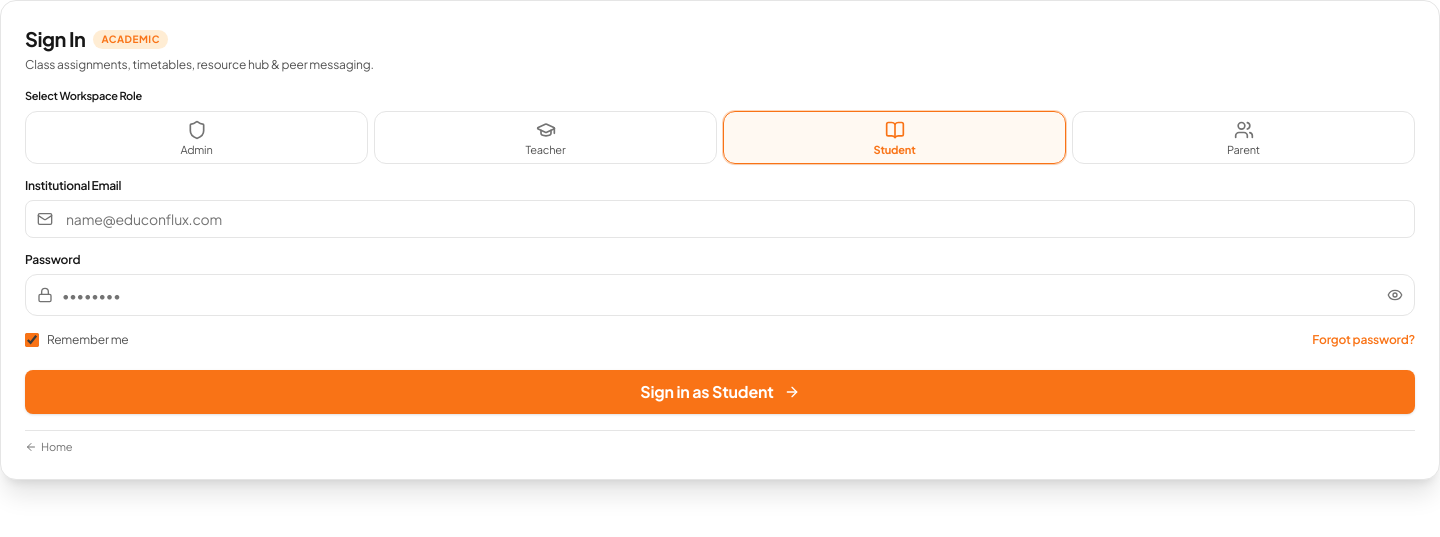
Test: LoginForm Component › displays validation error when entering short password
Type "test@example.com" into the field with placeholder "name@educonflux.com" at (720, 218), box [25,200,1415,238]
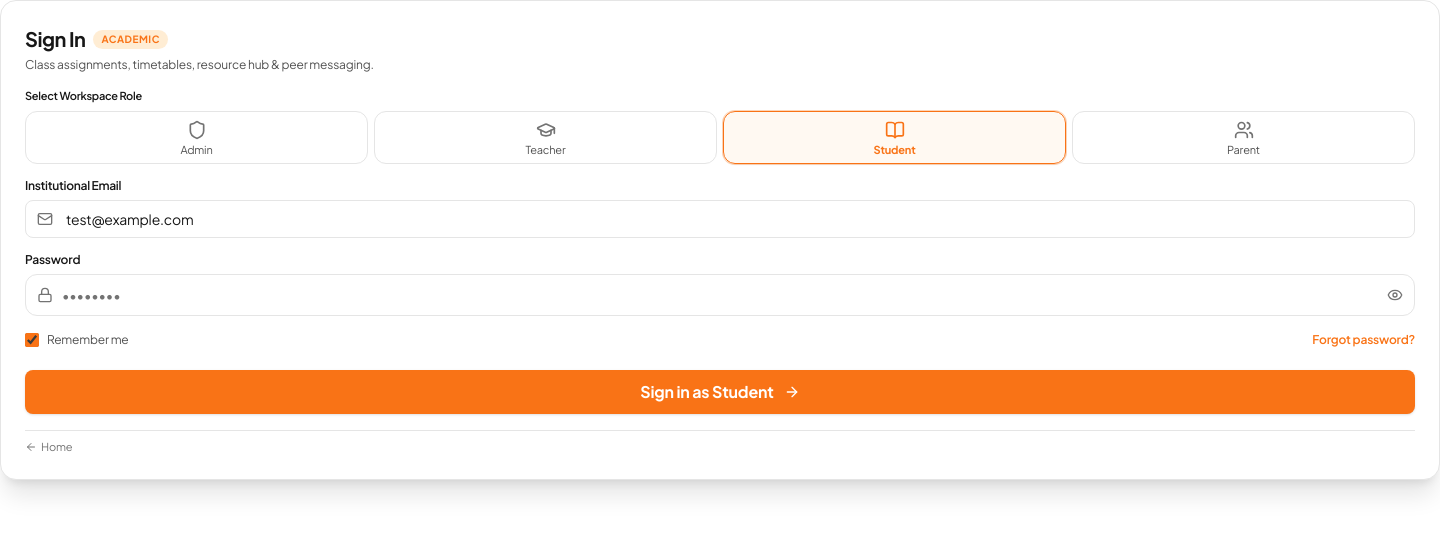
Type "123" into the password field with placeholder "••••••••" at (720, 294), box [25,274,1415,316]
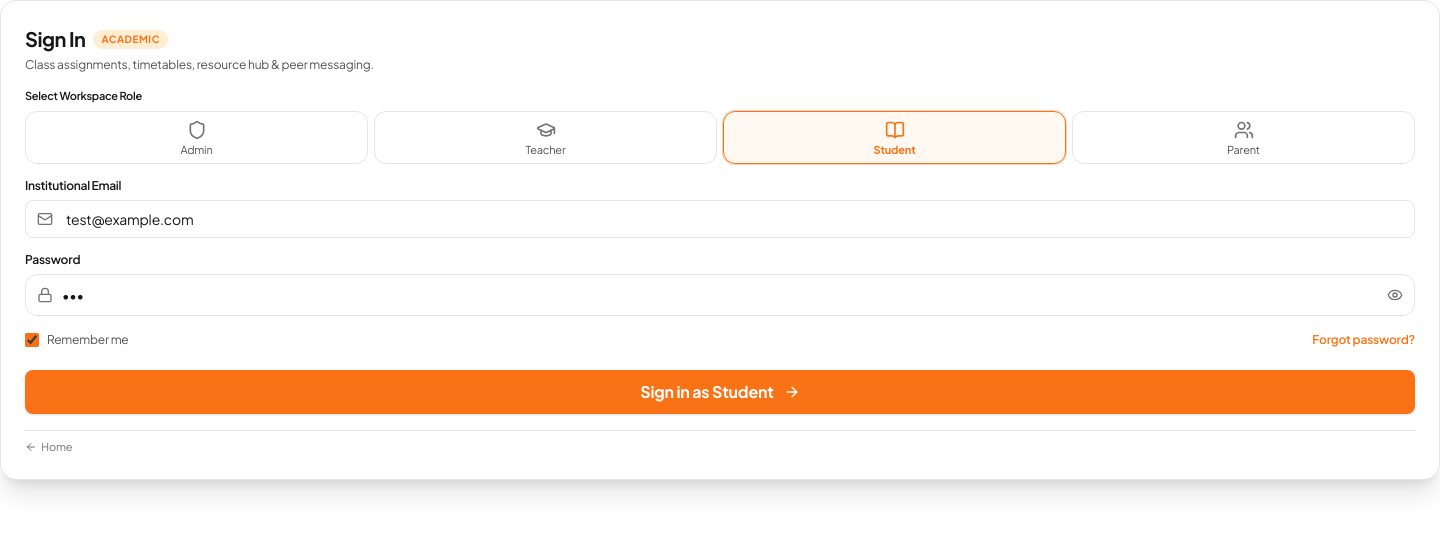
Click the button "Sign in as Student" at (720, 392), box [25,370,1415,414]
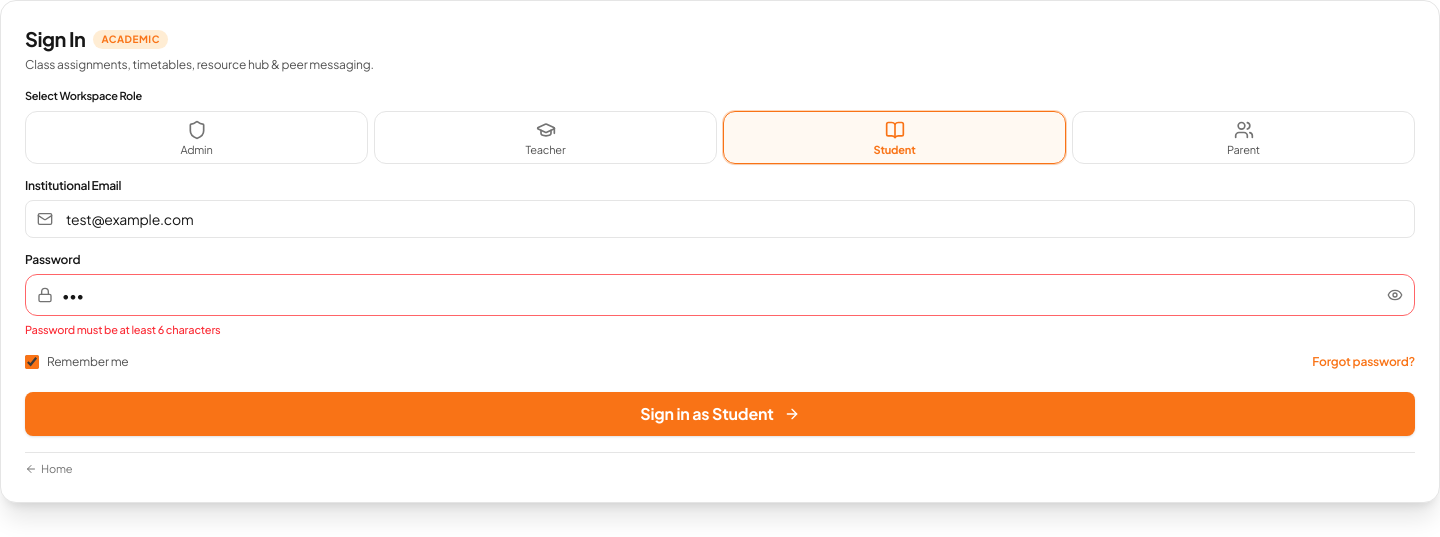
Expected: the text "Password must be at least 6 characters" is shown, [25,322,220,336]
